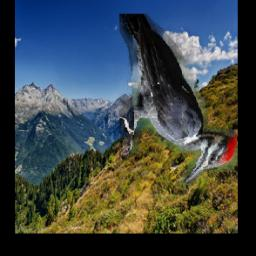Woodpecker: (120, 15, 238, 186)
